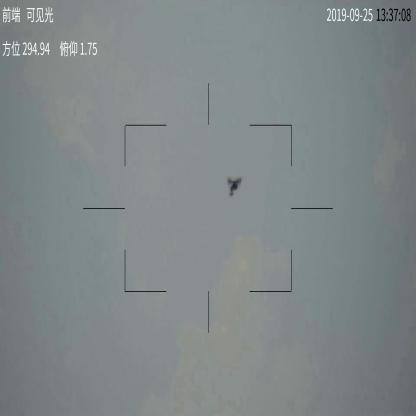uav: (227, 172, 244, 199)
